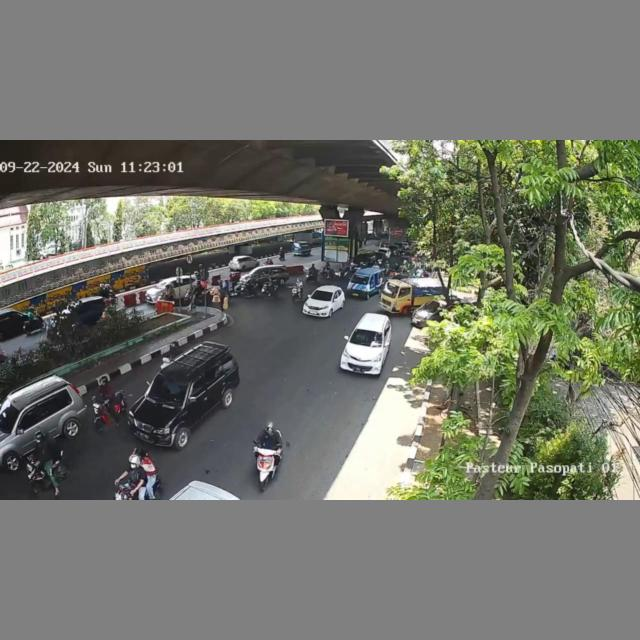windshield: (146, 374, 191, 405), (349, 328, 383, 347), (310, 291, 333, 302), (350, 274, 370, 286)
